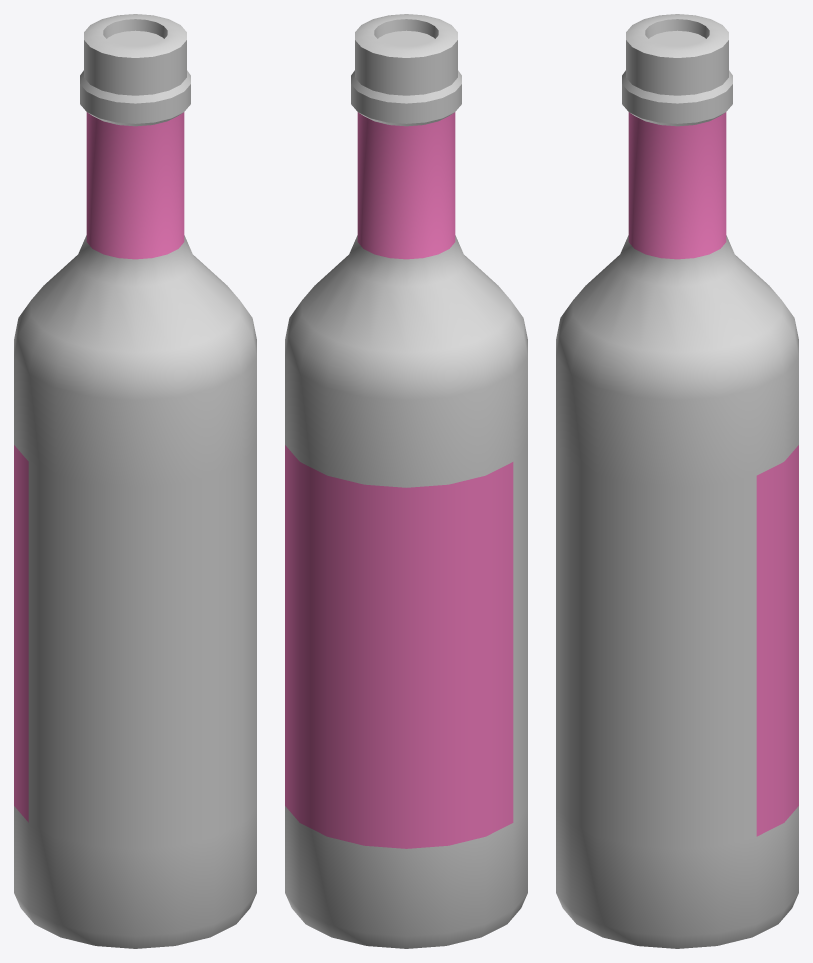
The model's file is Wine.fbx.
3 views of the same model, side by side, from view 1: azimuth 30°, elevation 25°; view 2: azimuth 150°, elevation 25°; view 3: azimuth 270°, elevation 25° (orthographic).
Parts seen in each view (by area): view 1: Wine; view 2: Wine; view 3: Wine.
Boxes of the visible parts, x1,y1,x2,y2 form: Wine: [14, 14, 256, 948]; Wine: [285, 14, 527, 948]; Wine: [556, 14, 798, 948].
Bounding box in the file's own units: 1.06 × 4.12 × 1.04.
